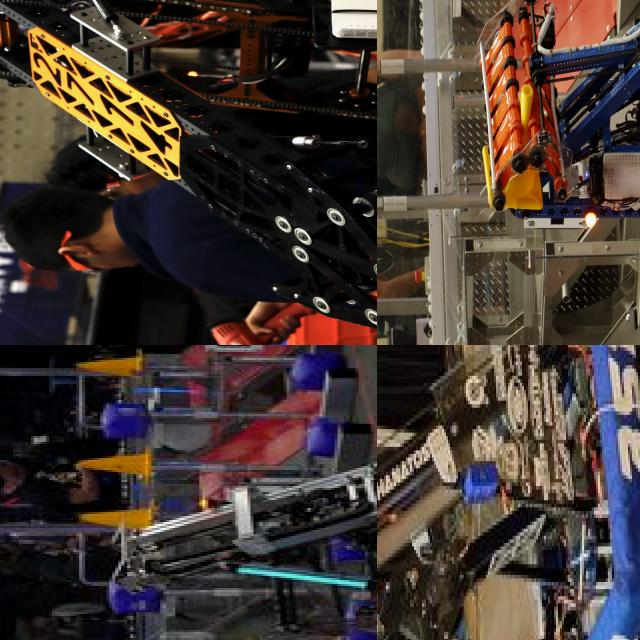FRC-Robots: (0, 0, 377, 345), (377, 345, 640, 640), (98, 405, 377, 640), (464, 0, 640, 297)
